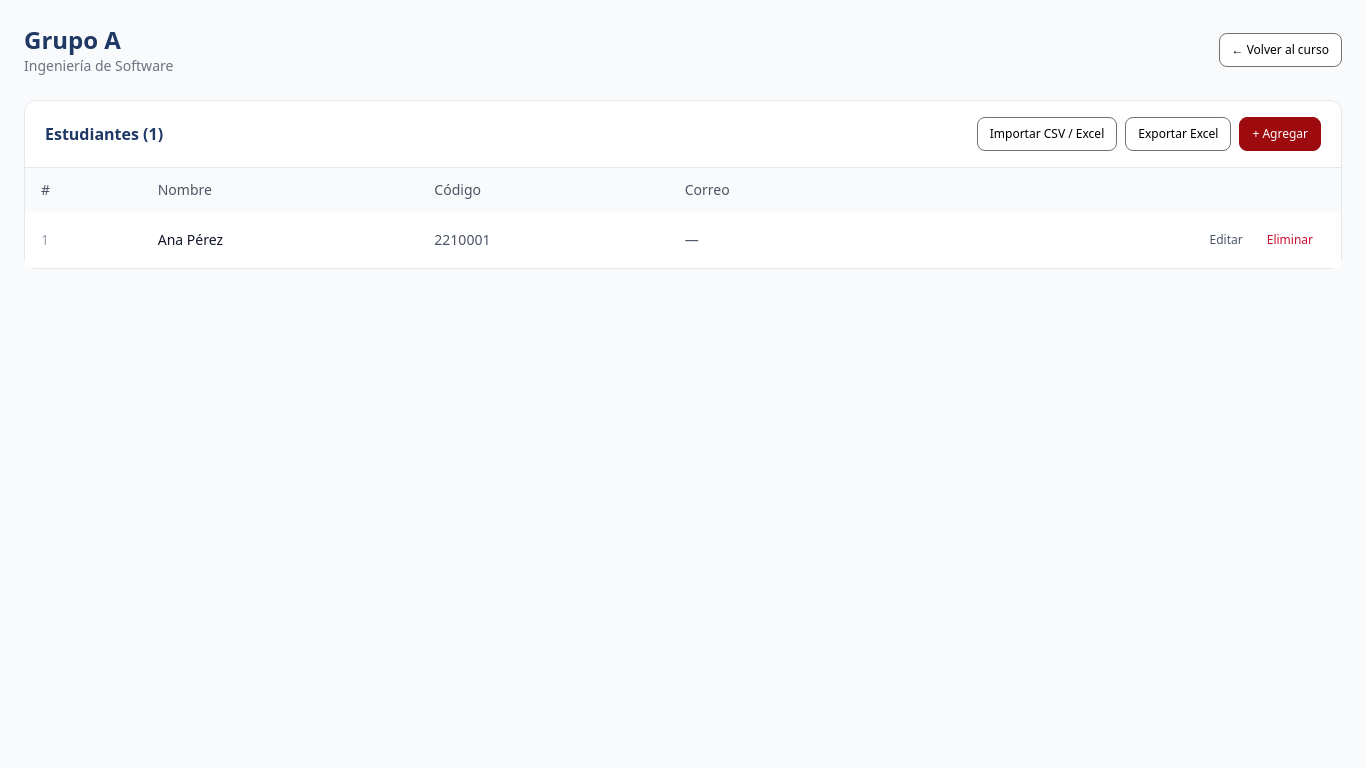
Test: SectionPage — eliminar estudiante › sin detail del backend, muestra el mensaje por defecto dentro del modal
This screenshot has width=1366, height=768.
Click the button "Eliminar": (1290, 240) [1255, 224, 1325, 256]
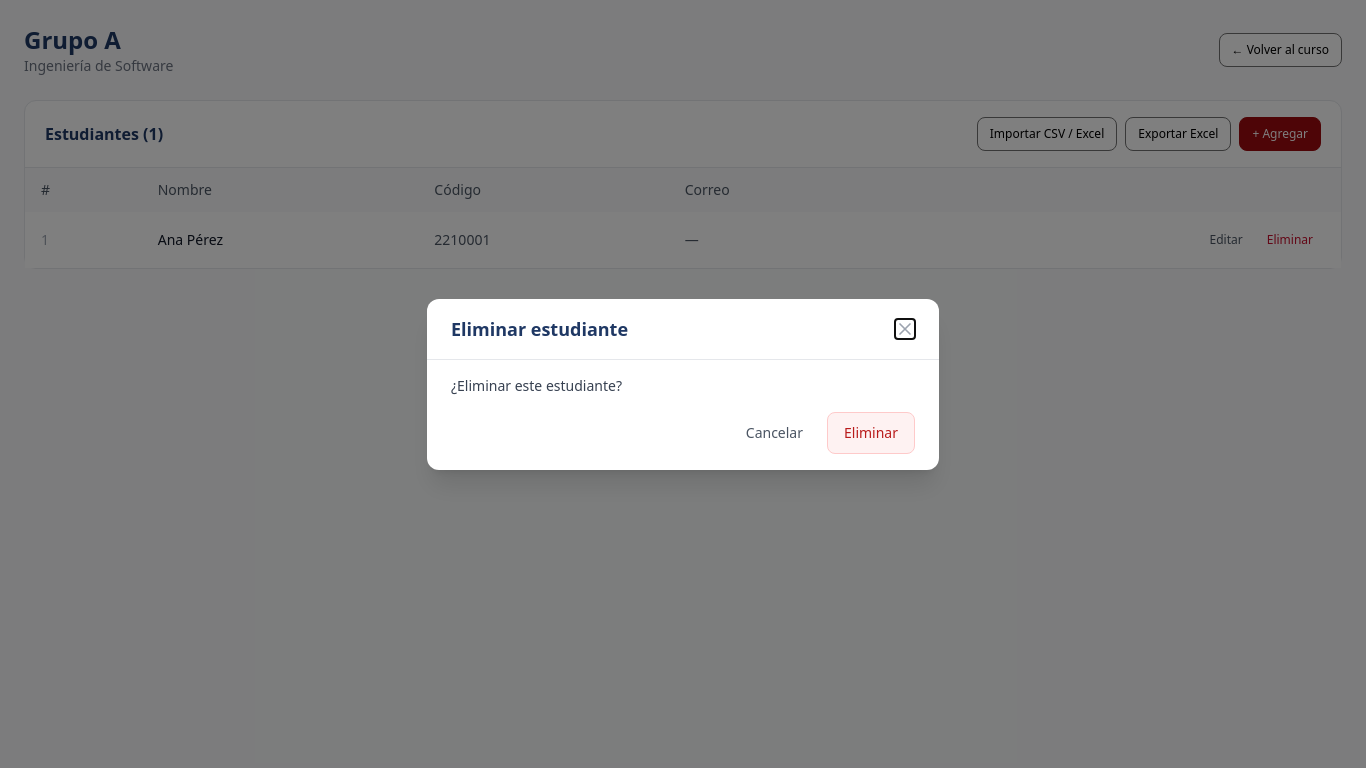
Click the button "Eliminar": (871, 432) [827, 412, 915, 454]
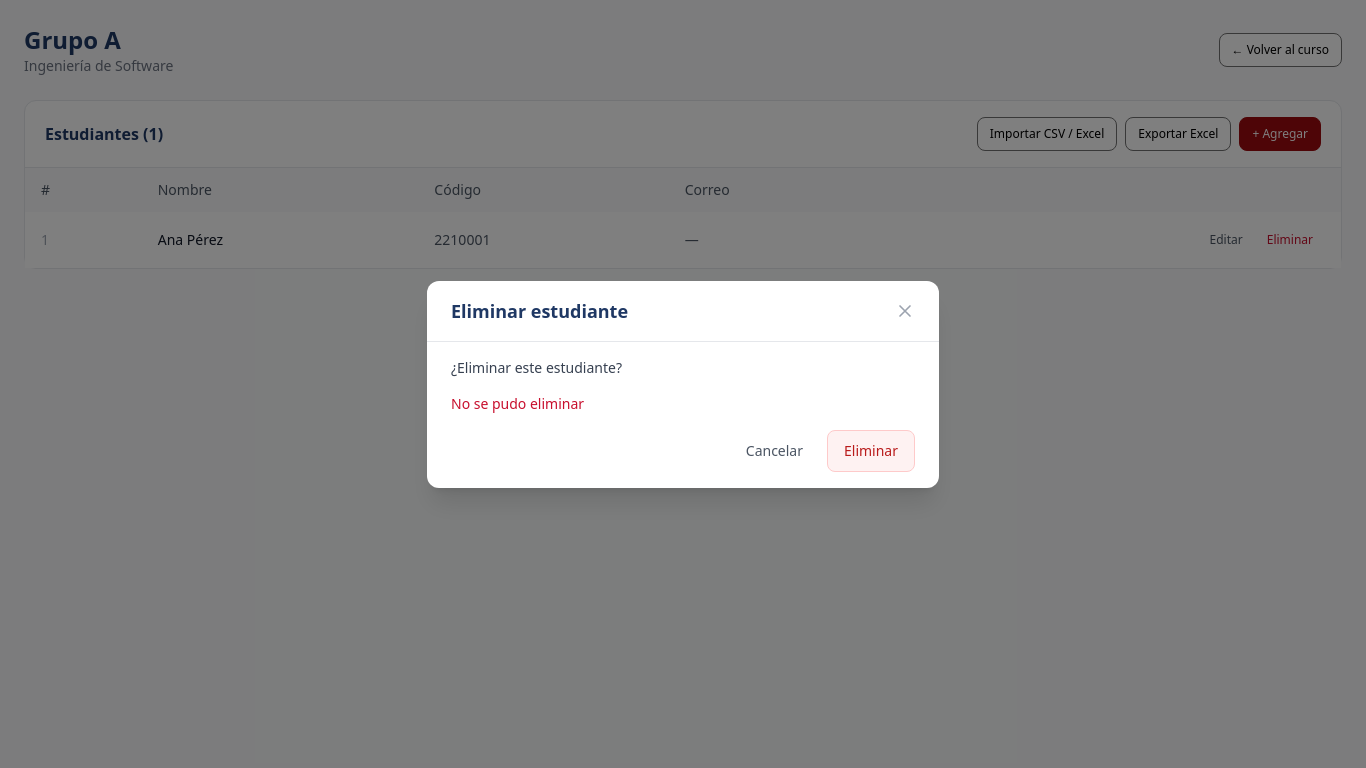
Expected: the text "No se pudo eliminar" is shown, [451, 394, 584, 412]
